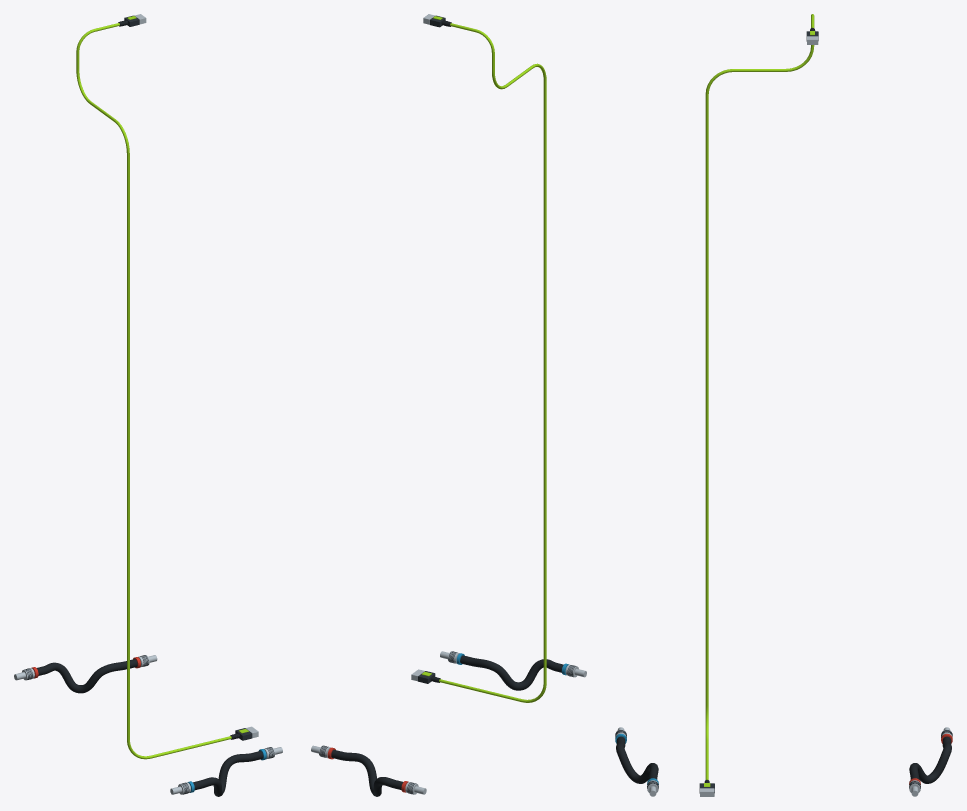
File: SM_GJ_Harness_07.fbx
The picture shows the model from 3 angles, left to right: view 1: azimuth 30°, elevation 25°; view 2: azimuth 150°, elevation 25°; view 3: azimuth 270°, elevation 25°; orthographic projection. The views are drawn at different scales.
Visible parts, largest first — view 1: SM_GJ_Harness_07; view 2: SM_GJ_Harness_07; view 3: SM_GJ_Harness_07.
Part boxes in pixels (left/top/right/bottom): SM_GJ_Harness_07: left=14, top=14, right=282, bottom=796; SM_GJ_Harness_07: left=311, top=14, right=586, bottom=796; SM_GJ_Harness_07: left=615, top=14, right=952, bottom=796.
Bounding box in the file's own units: 23.23 × 50.76 × 124.
